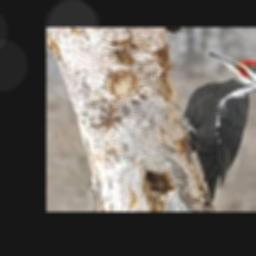Woodpecker: (182, 51, 256, 203)
